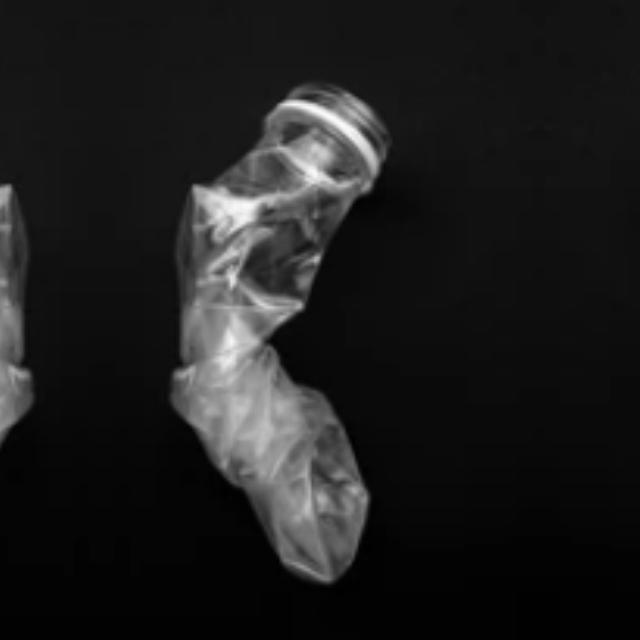Plastic: (148, 32, 452, 604), (0, 32, 54, 603), (623, 32, 640, 603)
